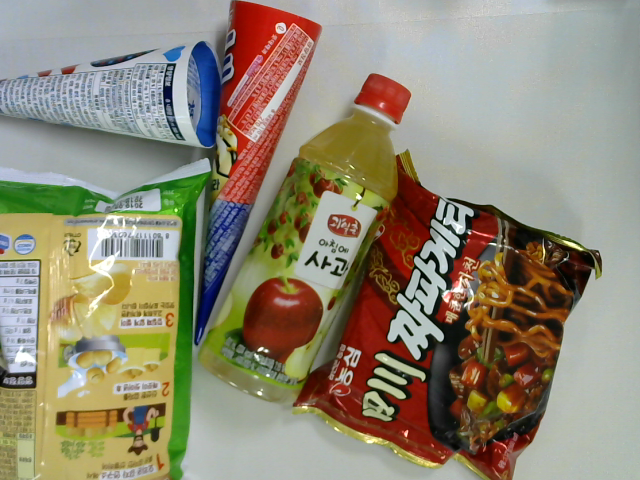Bravo_Cone_(Banila)_CVS: (1, 34, 227, 155)
Morning_Apple_500ml: (196, 65, 414, 411)
Pocachip_Onion: (1, 144, 225, 480)
Sichuan_Chapaghetti: (279, 149, 605, 480)
World_Cone_Banila: (187, 1, 335, 357)
